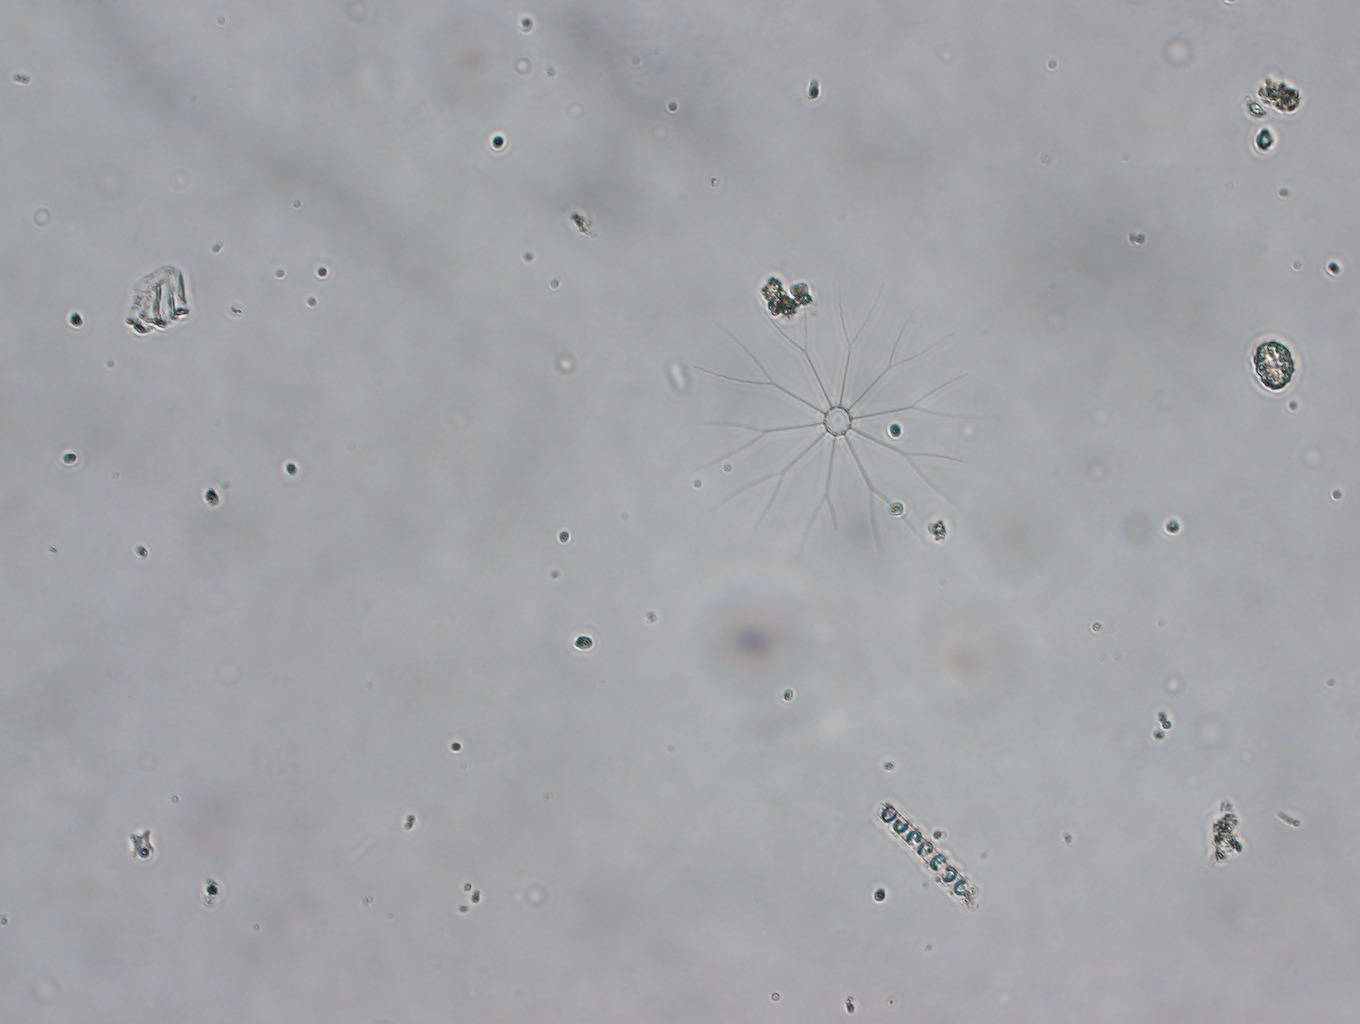bacteriastrum: (679, 275, 984, 573)
skeletonema: (867, 798, 992, 923)
